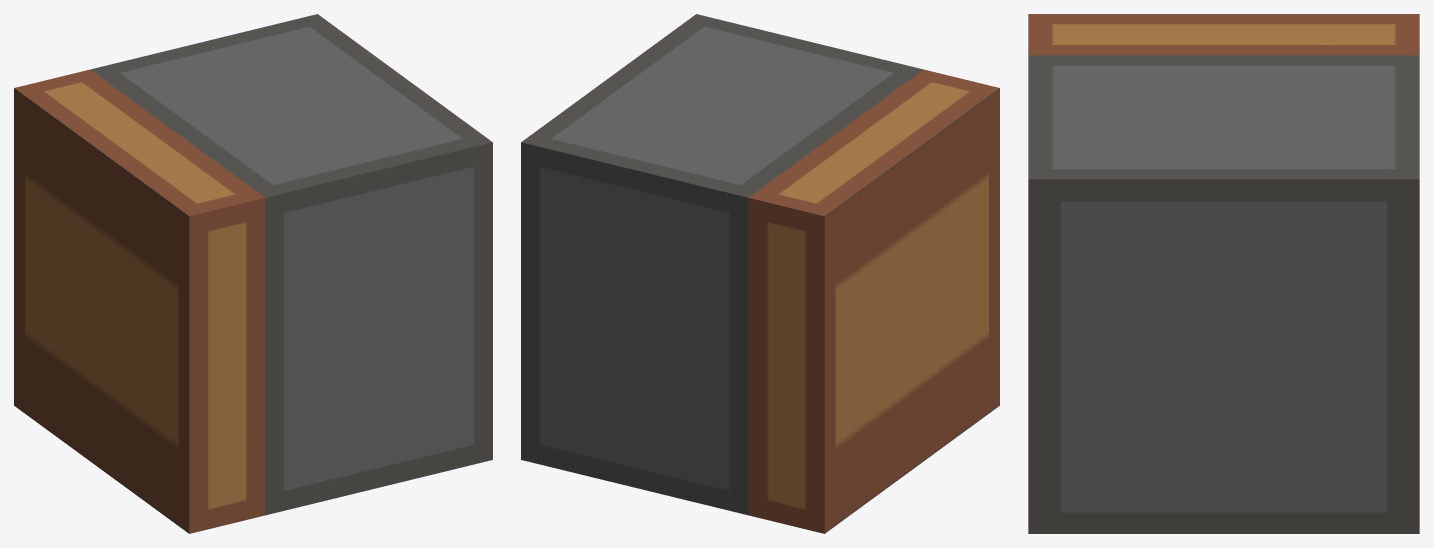
File: piston.fbx
The picture shows the model from 3 angles, left to right: view 1: azimuth 30°, elevation 25°; view 2: azimuth 150°, elevation 25°; view 3: azimuth 270°, elevation 25°; orthographic projection. The views are drawn at different scales.
Parts seen in each view (by area): view 1: Box, Box.001; view 2: Box, Box.001; view 3: Box, Box.001.
Part boxes in pixels (x1,y1,x2,y2): Box: (90, 14, 492, 515); Box.001: (14, 69, 265, 533); Box: (521, 14, 923, 515); Box.001: (748, 69, 999, 533); Box: (1028, 55, 1419, 533); Box.001: (1028, 14, 1419, 55).
Bounding box in the file's own units: 50 × 50 × 50.
